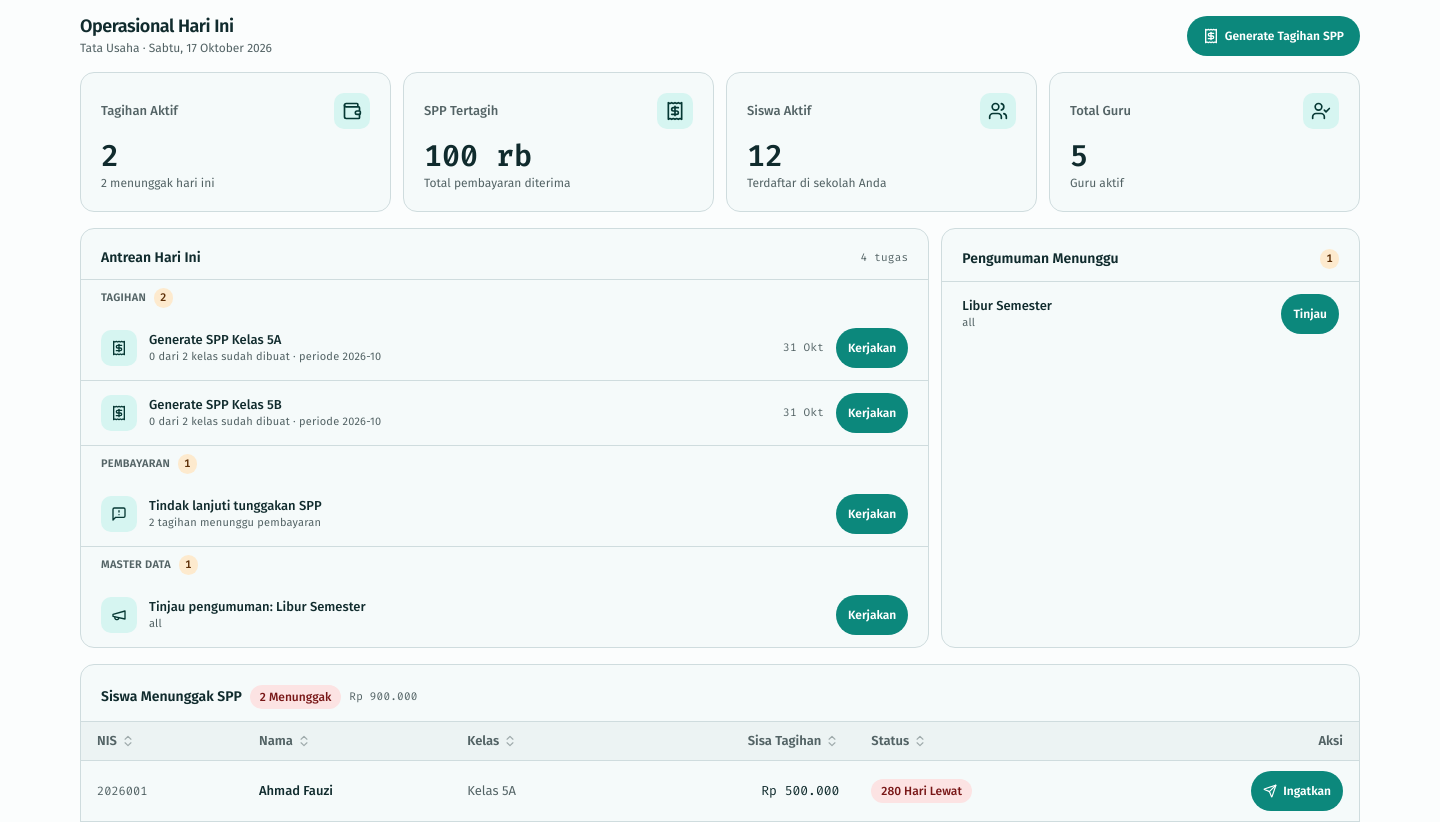
TuDashboardPage › test_mark_reminded_calls_be: clicking Ingatkan issues POST /api/spp/bills/{id}/remind
Step 1. Click the button "Ingatkan" → coordinates (1297, 790), box top-left (1251, 770), bottom-right (1343, 810)
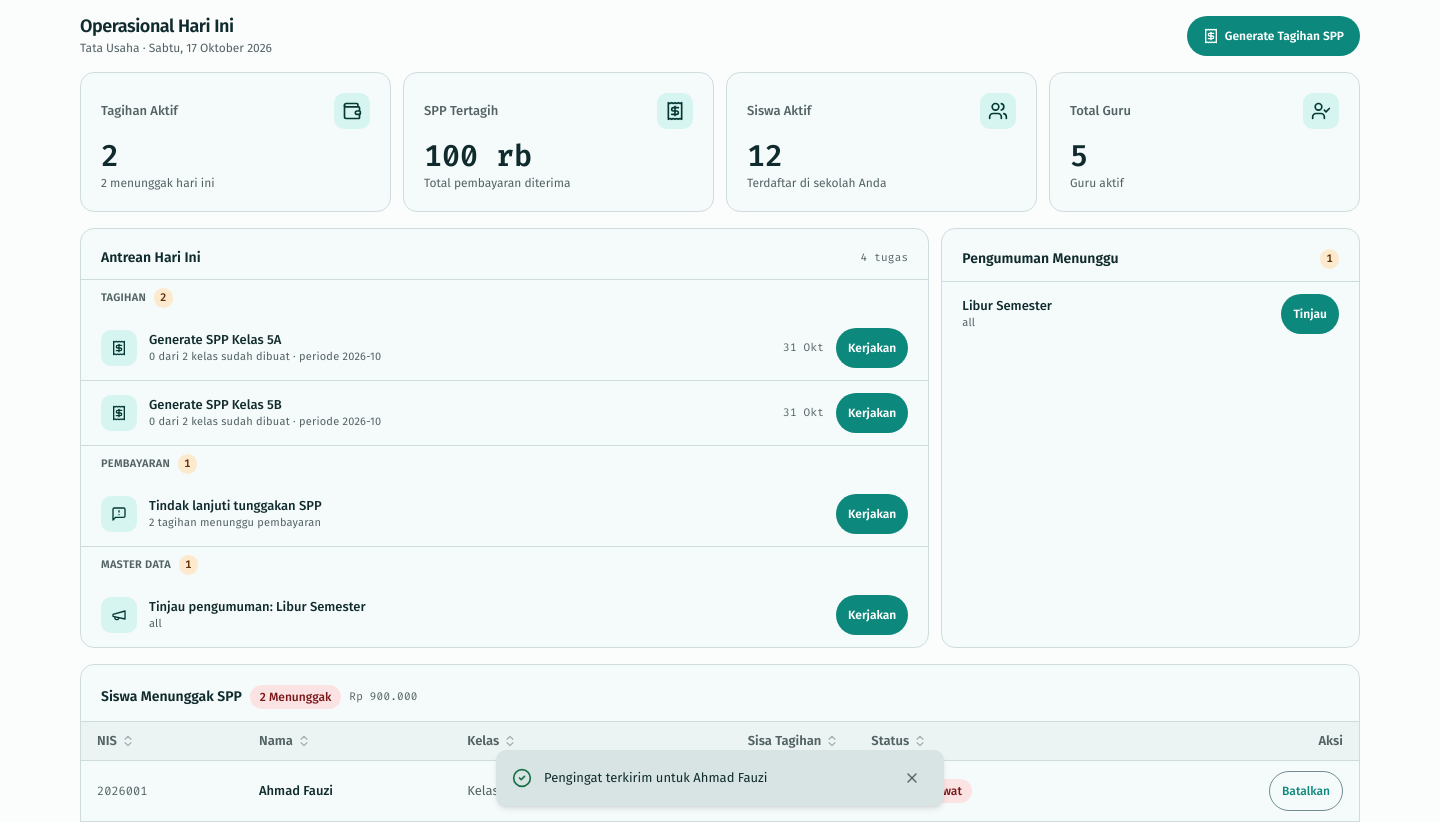
Expected: the text "Pengingat terkirim untuk Ahmad Fauzi" is shown, top-left (544, 770), bottom-right (768, 785)
